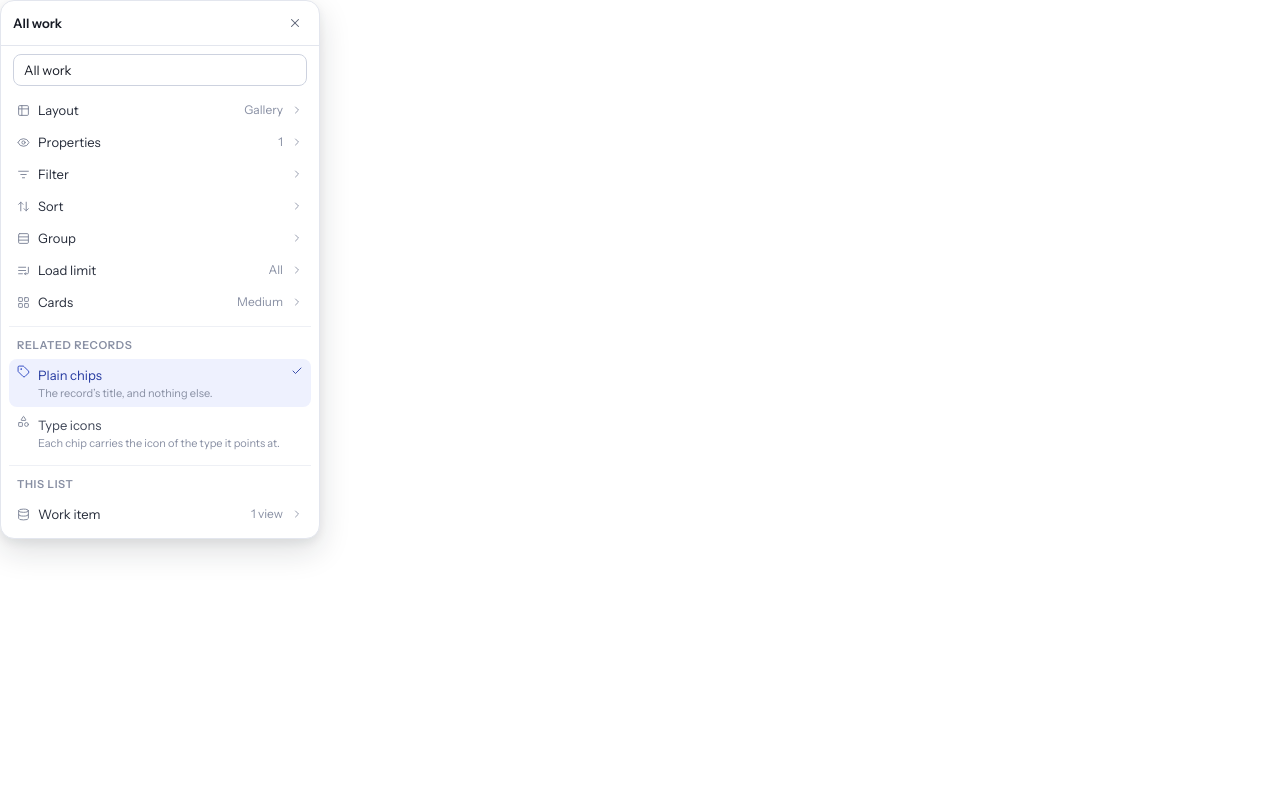
Test: card settings (M16.29) › states card size exactly once, on the Cards page
Expected: the text "Card size" is not shown
Click the button with test id "view-settings-cards". click: coordinates (56, 302)
box: [9, 286, 311, 318]
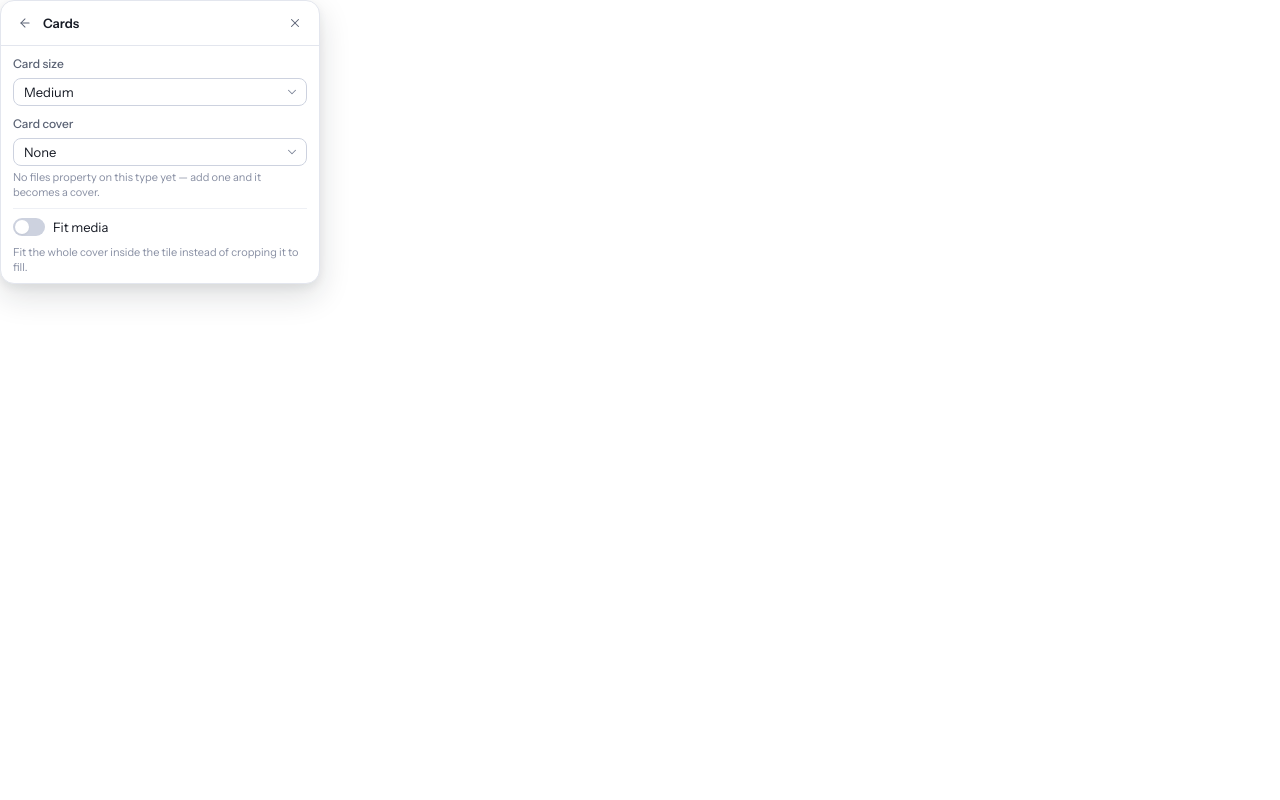
Now the text "Card size" is shown once, box [13, 56, 64, 71]
